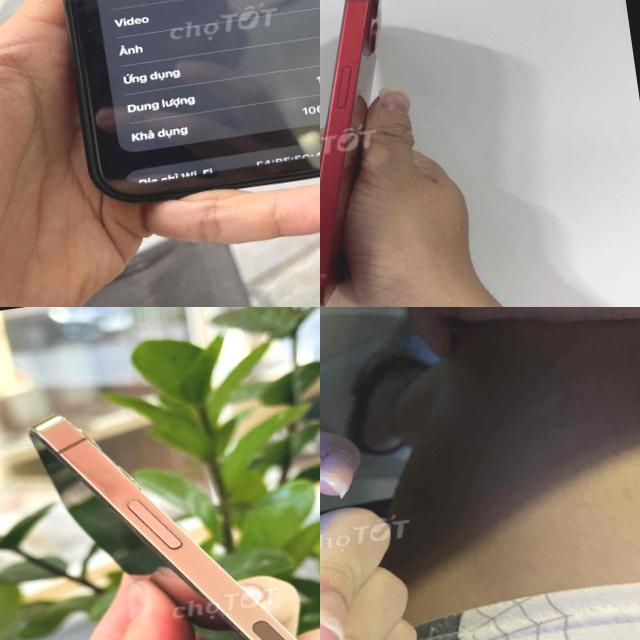gen_12_13: (25, 365, 320, 640), (12, 0, 320, 229), (320, 0, 450, 307), (320, 307, 408, 640)
